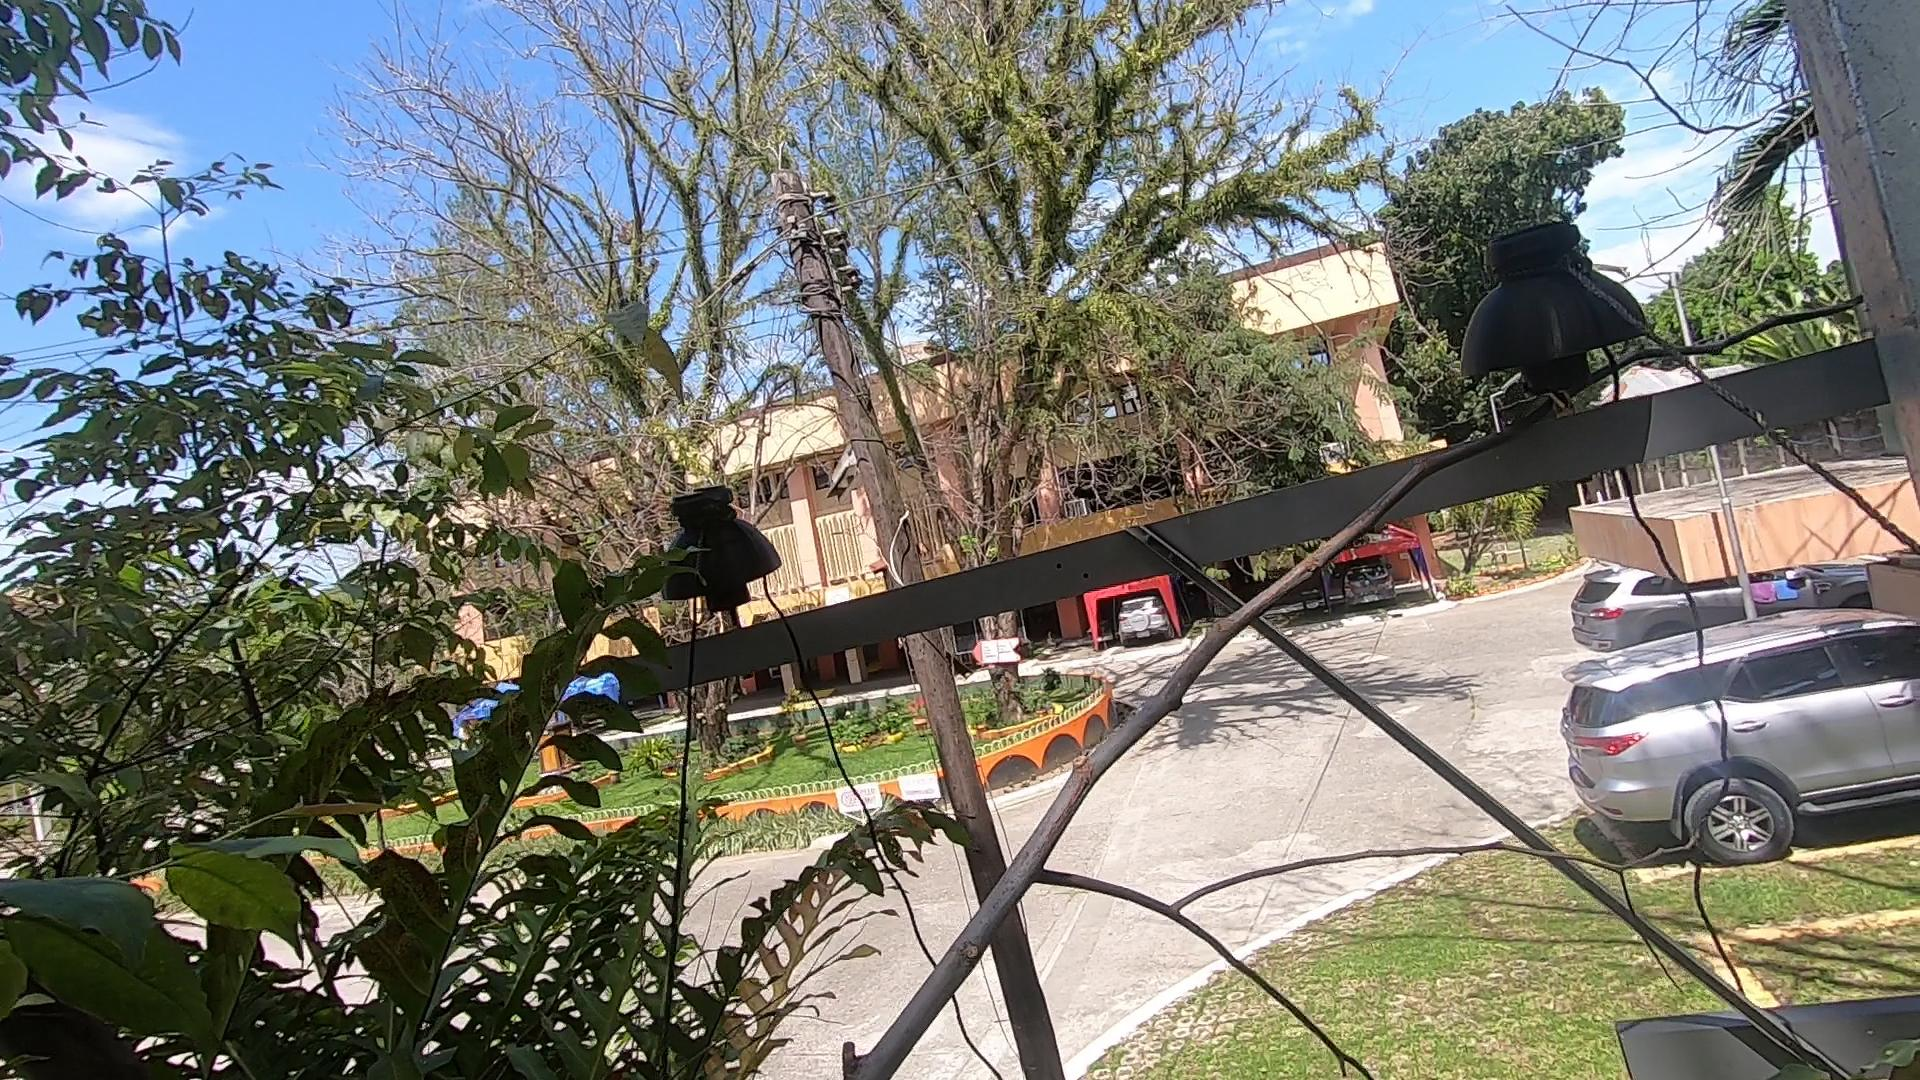tree branch: (695, 316, 1895, 1080)
